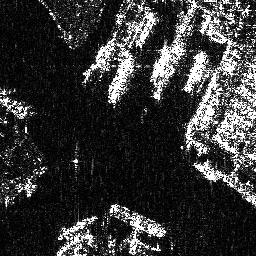ship: (151, 39, 186, 103), (107, 203, 168, 239), (108, 54, 133, 107), (55, 215, 99, 241), (183, 49, 205, 92), (151, 44, 167, 83), (192, 161, 218, 181)
